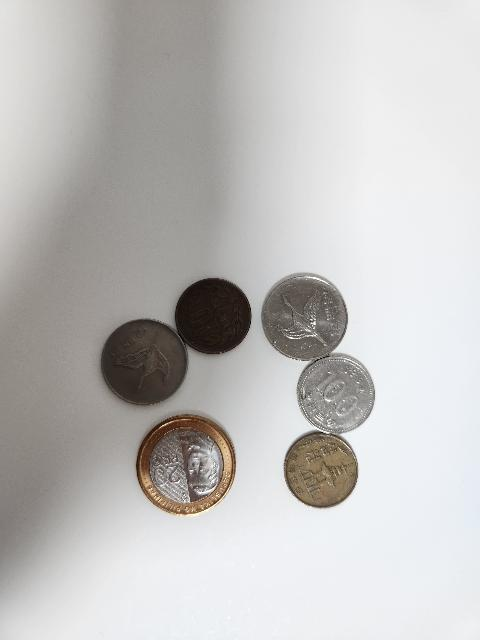coin: (138, 414, 230, 512), (102, 317, 188, 405), (262, 270, 348, 358), (297, 354, 373, 430), (172, 280, 252, 352), (283, 432, 359, 506)
